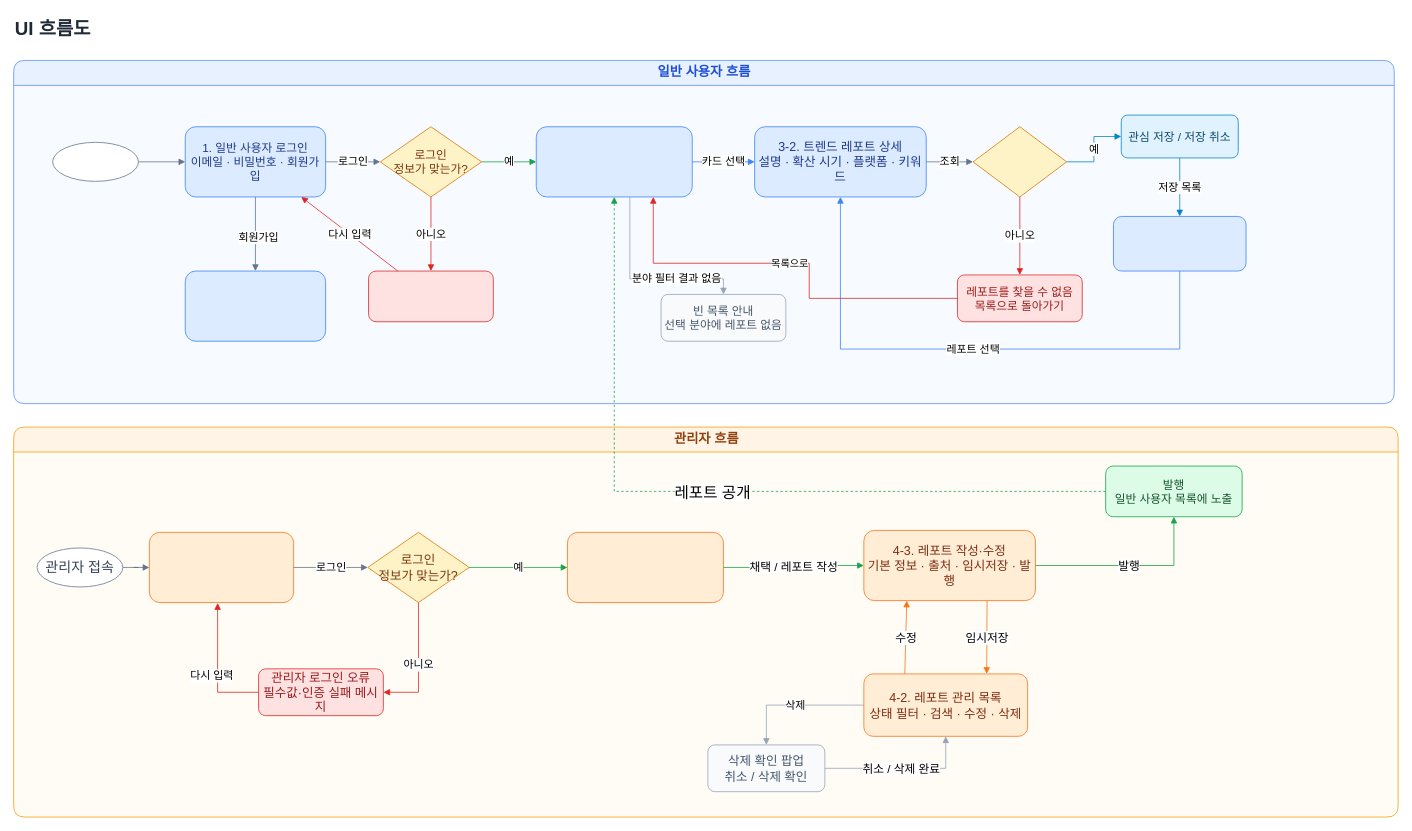
Image size: 1412x831. Some labels were removed from this diagram. Each missing label, with the centre of its shape:
1-1. 회원가입 이름 • 이메일 • 비밀번호: the point at 255,305
2. 관리자 로그인 관리자 이메일 · 비밀번호: the point at 221,567
3-1. 트렌드 레포트 목록 분야 필터 · 레포트 카드 · 저장: the point at 613,161
4-1. AI 트렌드 후보 목록 상태 필터 · AI 요약 · 지표 · 레포트 작성: the point at 645,567
관심 트렌드 목록 로그인 사용자별 저장 목록: the point at 1179,243
레포트가 존재하는가?: the point at 1019,161
로그인 오류 필수값·인증 실패 메시지: the point at 430,296
서비스 접속: the point at 95,161
